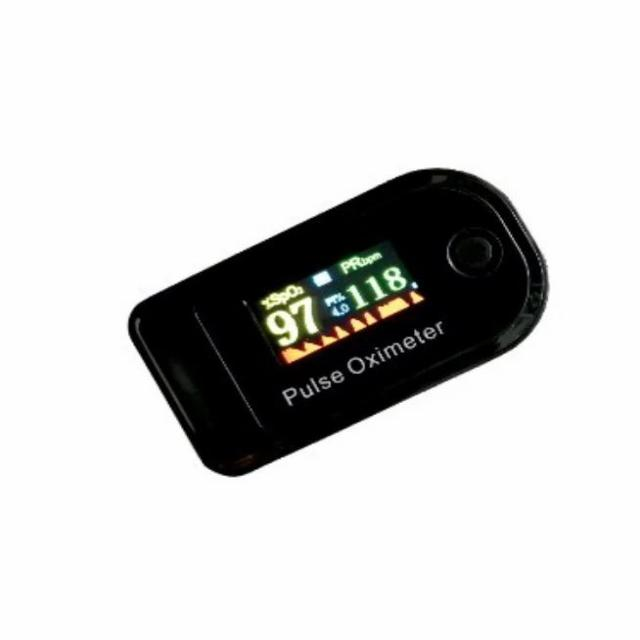oximeter: (100, 162, 580, 494)
